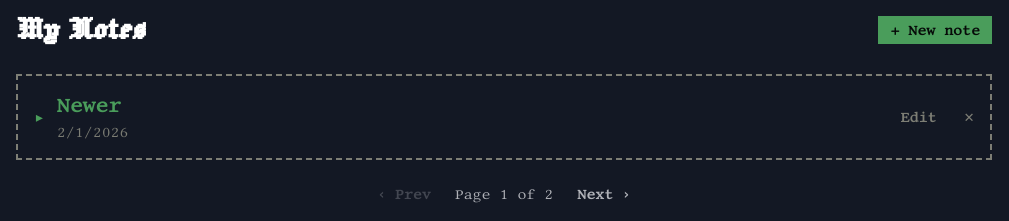
Test: Notes › paginates with Prev/Next
The width and height of the screenshot is (1009, 221).
Expected: the text "Page 1 of 2" is shown, [455, 184, 553, 204]
Expected: the text "Newer" is shown, [57, 92, 128, 120]
Click the button "Next ›": (604, 194) [569, 184, 638, 204]
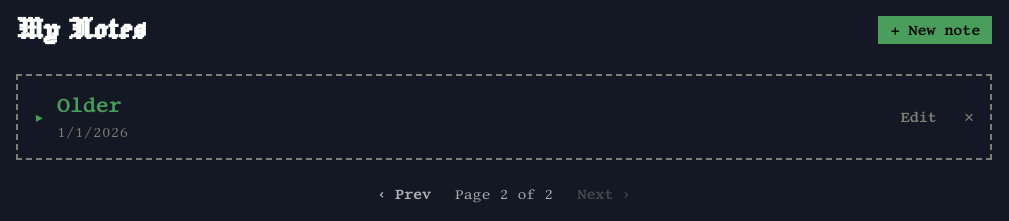
Result: the text "Page 2 of 2" is shown at [455, 184, 553, 204]
